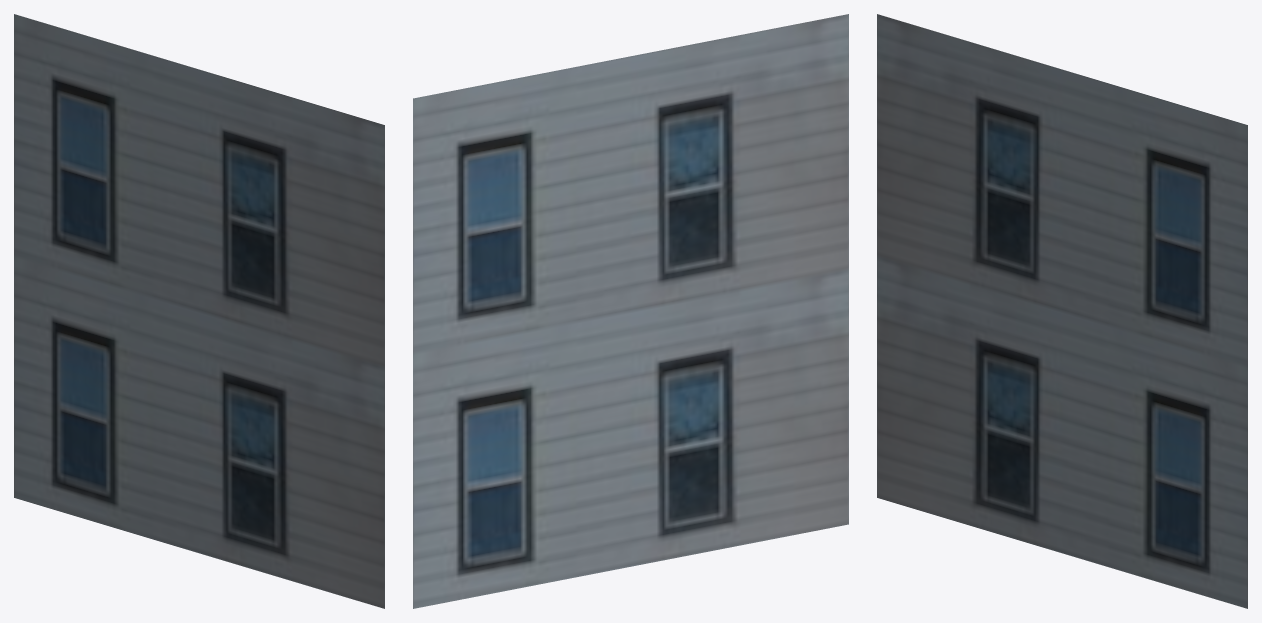
Rendered from ResTex__3231.fbx.
3 views of the same model, side by side, from view 1: azimuth 90°, elevation 25°; view 2: azimuth 150°, elevation 25°; view 3: azimuth 270°, elevation 25° (orthographic). The views are drawn at different scales.
Parts seen in each view (by area): view 1: CityEngineMaterial_18_m; view 2: CityEngineMaterial_18_m; view 3: CityEngineMaterial_18_m.
Boxes of the visible parts, bbox=[...] form: CityEngineMaterial_18_m: bbox=[14, 14, 384, 608]; CityEngineMaterial_18_m: bbox=[413, 14, 848, 608]; CityEngineMaterial_18_m: bbox=[877, 14, 1247, 608].
Bounding box in the file's own units: 2.96 × 6 × 4.17.
1 material, 1 textured.
